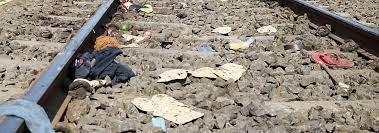mulch: (169, 60, 260, 92), (135, 96, 207, 128)
